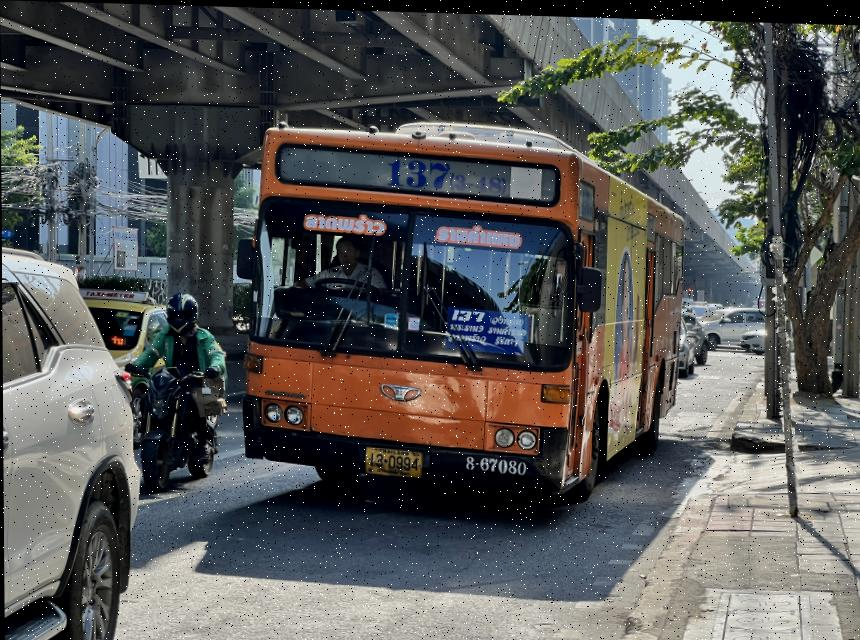BMTA-bus: (240, 121, 687, 499)
Bus Line Number: (386, 150, 507, 198)
Bus Side Number: (464, 449, 529, 475)
Destination Sign: (442, 305, 531, 352)
